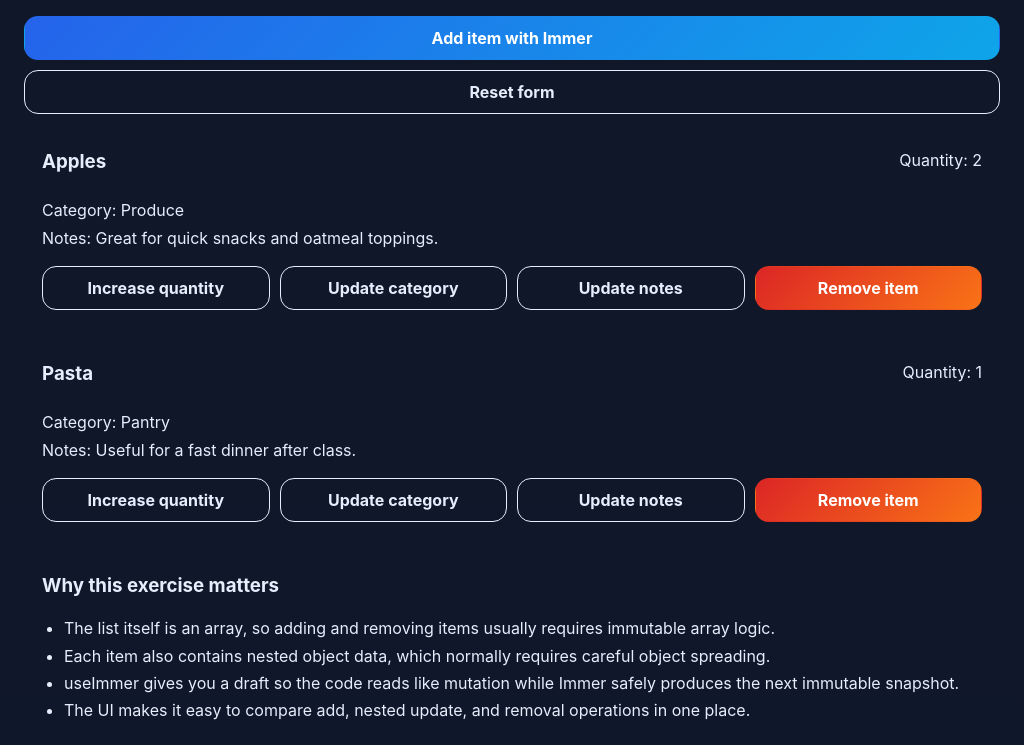
Test: ShoppingListWithImmer standalone exercise › normal: removes an item from the list
This screenshot has width=1024, height=745.
(page scrolled)
Click the button with aria-label "remove pasta" at (868, 500), box [754,478,982,522]
(page scrolled)
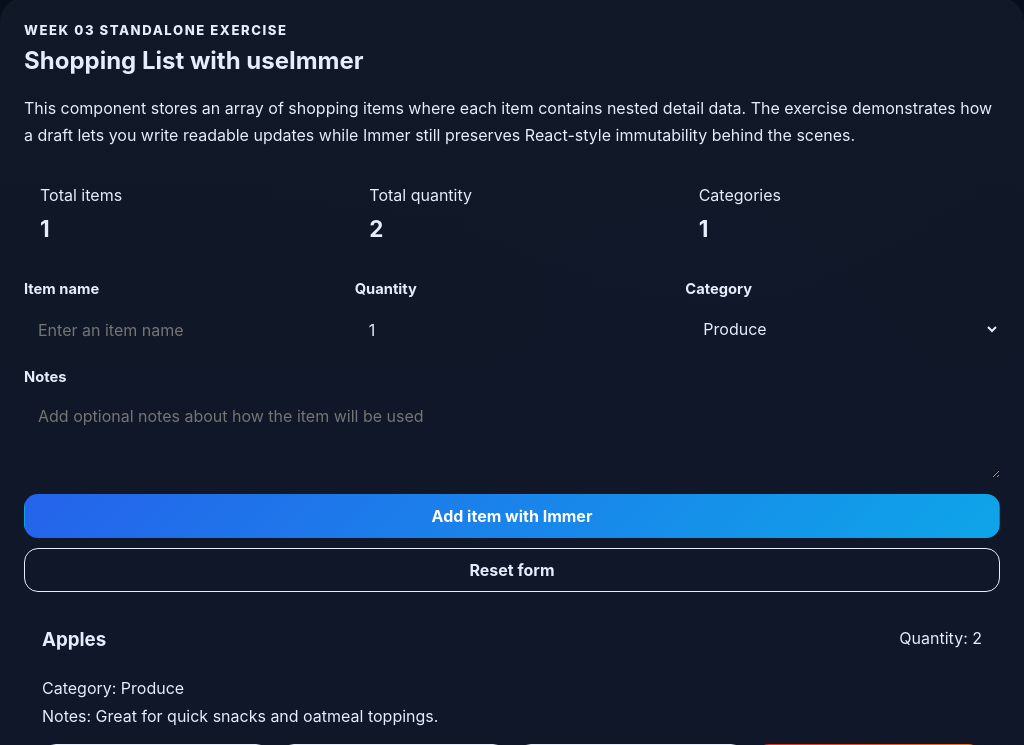
Expected: the heading "Pasta" is gone
Expected: the text with test id "summary-item-count" reads "1", [40,215,50,242]
